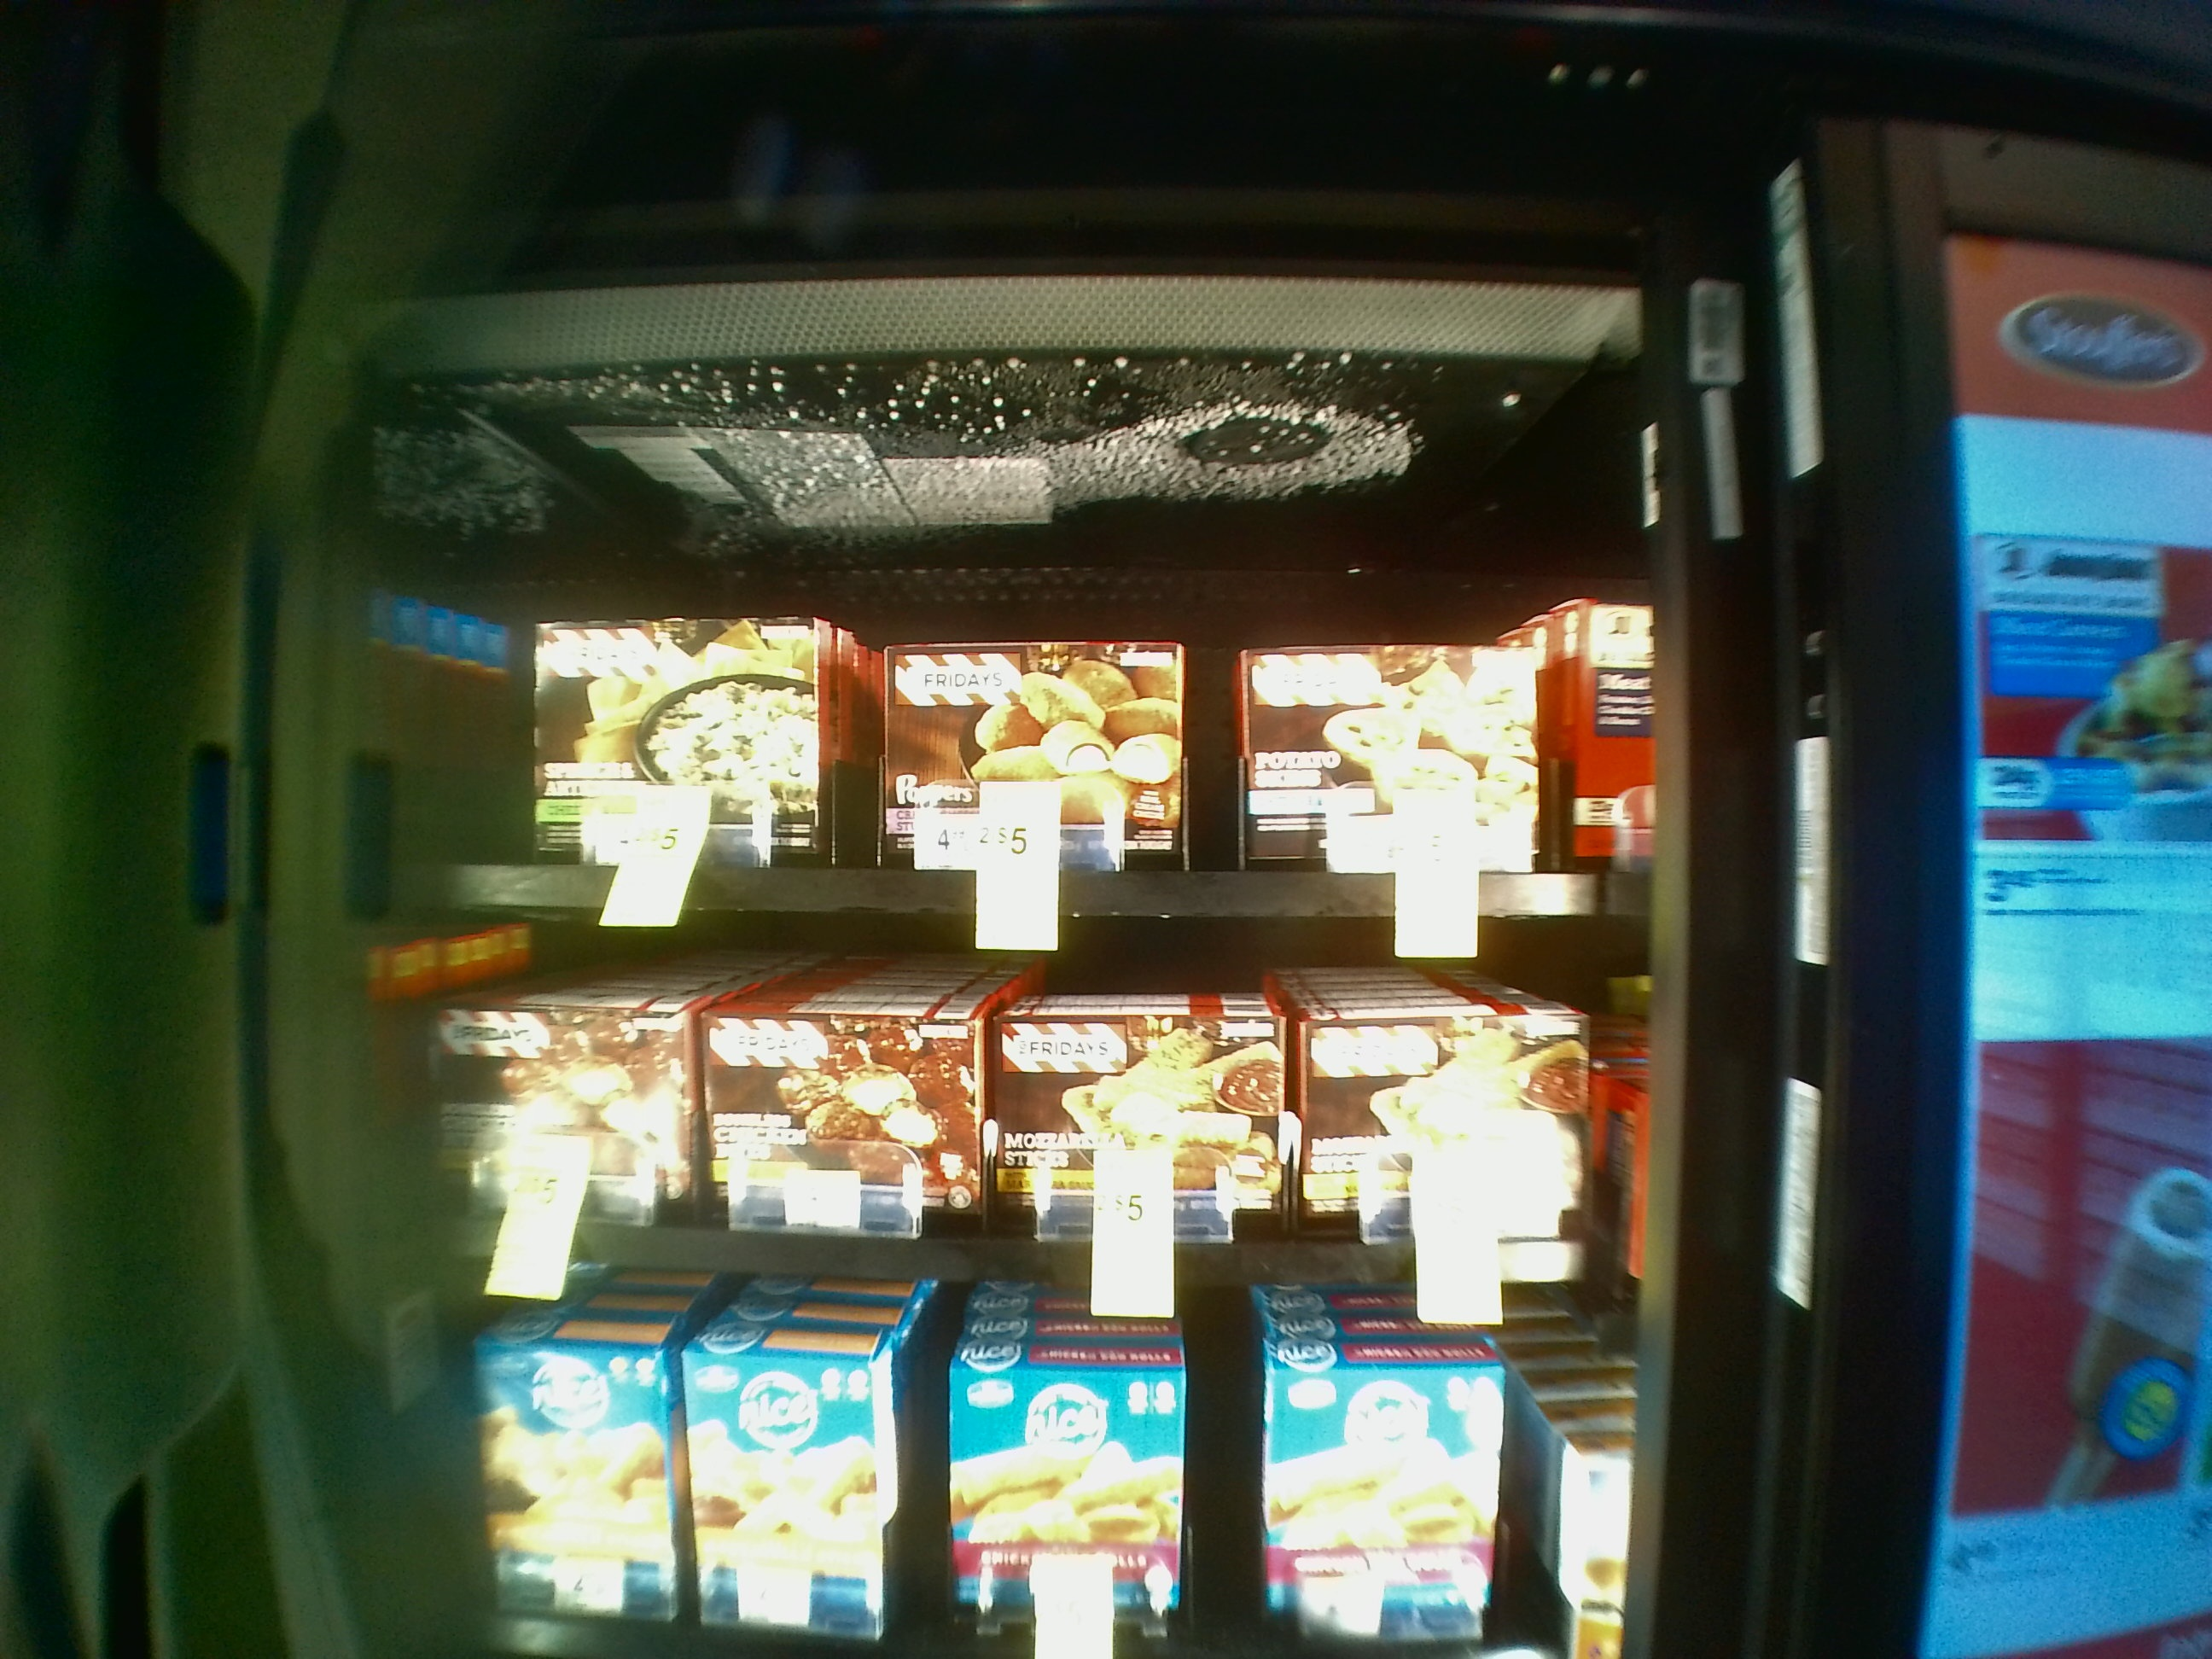shelf: (374, 387, 1641, 924), (376, 939, 1641, 1309)
